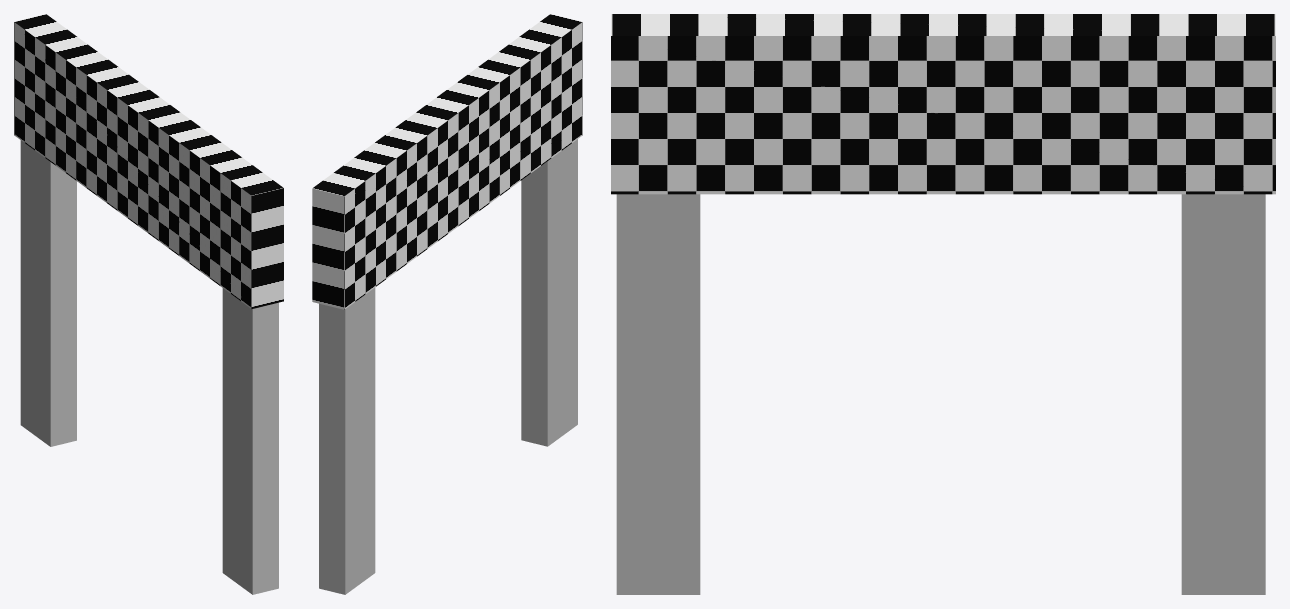
Rendered from track1.obj.
3 renders of one model, left to right at view 1: azimuth 30°, elevation 25°; view 2: azimuth 150°, elevation 25°; view 3: azimuth 270°, elevation 25°, orthographic. The views are drawn at different scales.
Parts seen in each view (by area): view 1: Cube.002_Cube.003, Cube.001_Cube.002, Cube_Cube.001; view 2: Cube.002_Cube.003, Cube_Cube.001, Cube.001_Cube.002; view 3: Cube.002_Cube.003, Cube_Cube.001, Cube.001_Cube.002.
Boxes of the visible parts, x1,y1,x2,y2 form: Cube.002_Cube.003: (14,14,283,308); Cube.001_Cube.002: (222,288,278,594); Cube_Cube.001: (20,140,76,446); Cube.002_Cube.003: (312,14,582,309); Cube_Cube.001: (319,287,375,594); Cube.001_Cube.002: (521,139,577,446); Cube.002_Cube.003: (611,14,1275,194); Cube_Cube.001: (1181,194,1265,594); Cube.001_Cube.002: (616,194,700,594).
Size of what is drawn, in the model's own units: 0.1561 by 1.86 by 2.
Materials: 2 (1 with a texture image).
